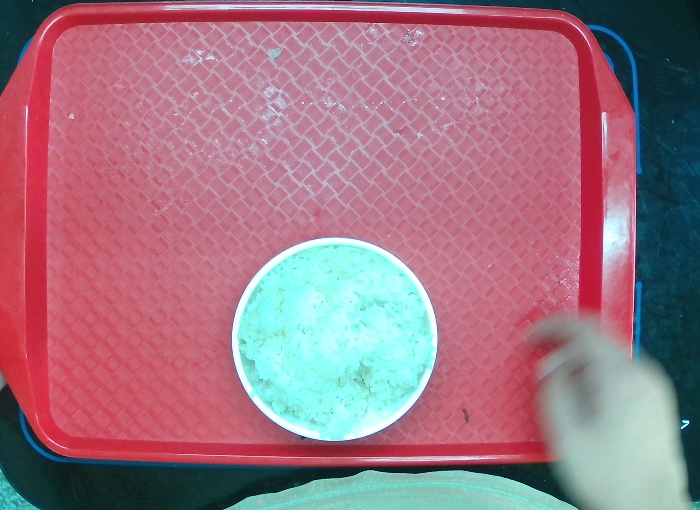YKMZ-Fan_Wan: (223, 220, 444, 454)
